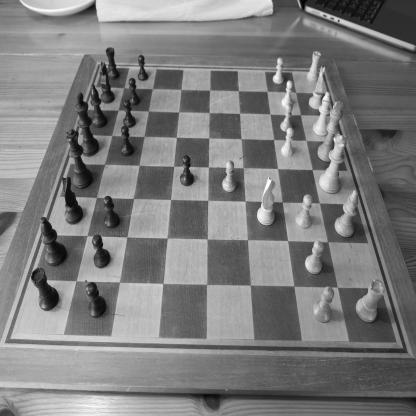black-bishop: (40, 216, 67, 266), (90, 84, 107, 129)
black-king: (74, 91, 100, 157)
black-knight: (61, 176, 83, 225), (99, 61, 115, 104)
black-pawn: (86, 282, 107, 318), (91, 234, 111, 269), (103, 196, 120, 230), (120, 125, 134, 157), (180, 155, 194, 186), (123, 99, 136, 129), (128, 77, 141, 106), (138, 54, 148, 82)
black-queen: (65, 128, 93, 190)
black-rook: (30, 267, 60, 311), (105, 47, 120, 80)
white-bishop: (334, 189, 359, 239), (312, 91, 331, 137)
white-king: (316, 100, 344, 164)
white-knight: (256, 176, 275, 227), (308, 66, 326, 110)
white-pawn: (313, 286, 334, 324), (305, 240, 324, 275), (295, 194, 313, 229), (222, 159, 237, 193), (280, 127, 295, 158), (280, 104, 293, 132), (272, 57, 284, 85), (281, 80, 293, 108)
white-queen: (318, 133, 348, 194)
white-rook: (355, 278, 385, 324), (306, 50, 322, 83)
